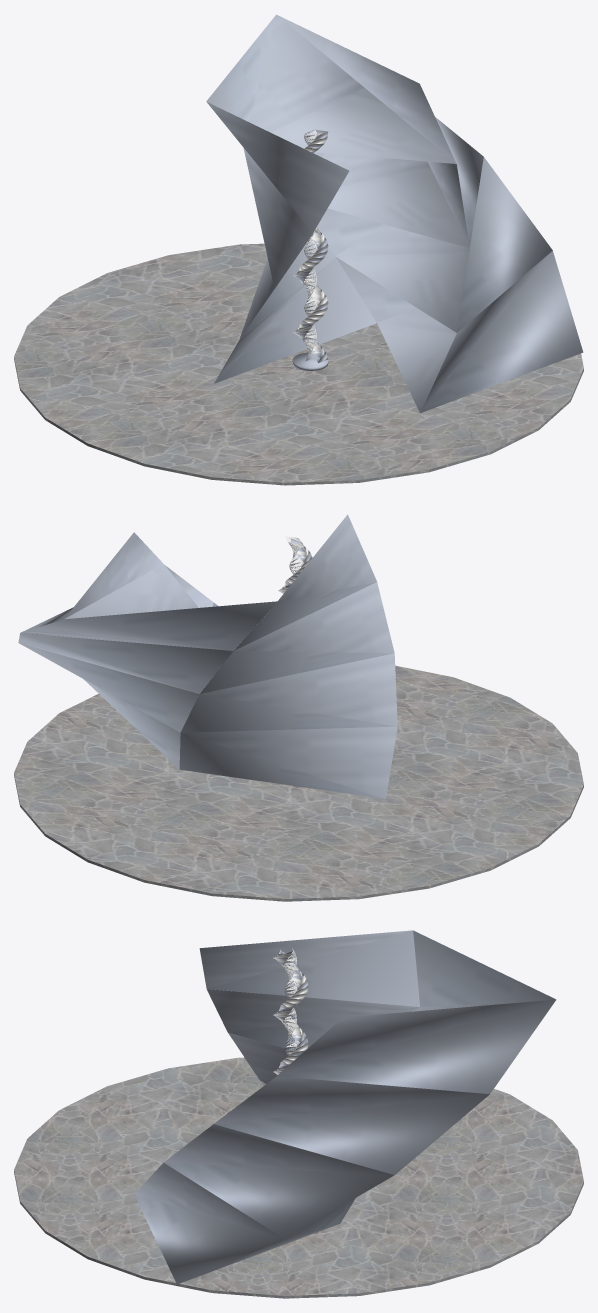
File: helix875-r875.glb
3 views of the same model, one above another, from view 1: azimuth 30°, elevation 25°; view 2: azimuth 150°, elevation 25°; view 3: azimuth 270°, elevation 25° (orthographic).
Parts seen in each view (by area): view 1: Geom3D (×3), Geom3D_; view 2: Geom3D (×3); view 3: Geom3D (×3), Geom3D_.
Part boxes in pixels (x1,y1,x2,y2): Geom3D (×3): (14,14,583,485); Geom3D_: (292,129,328,370); Geom3D (×3): (14,514,583,901); Geom3D (×3): (14,930,583,1298); Geom3D_: (273,951,308,1072).
Size of the model in its own units: 7.37 by 3.34 by 7.37.
3 materials, 2 textured.
